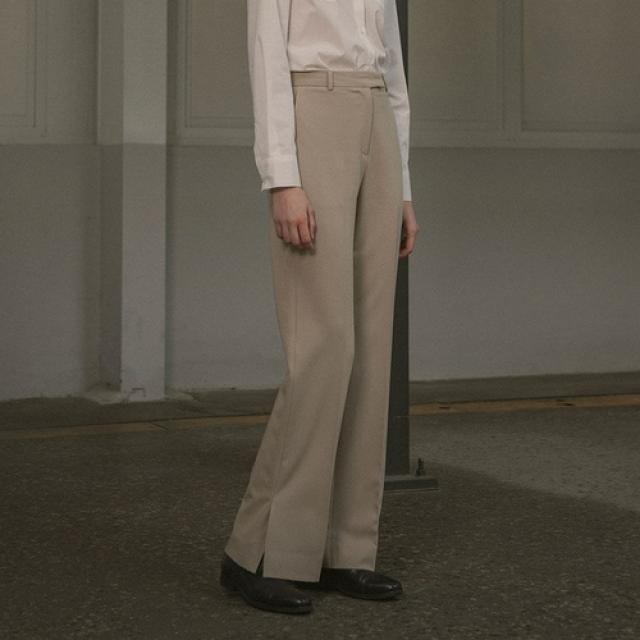Blouse_deep: (230, 59, 402, 568)
